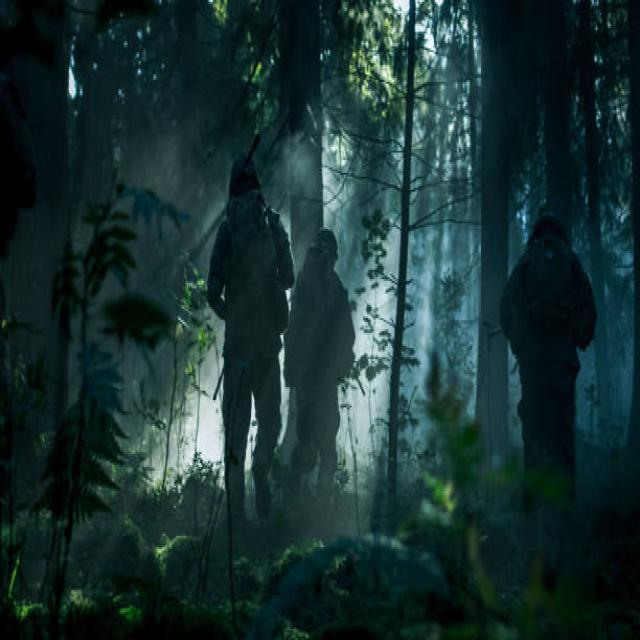Forest: (0, 0, 640, 640)
Militant: (200, 137, 293, 546), (499, 191, 596, 552), (290, 208, 361, 528)
